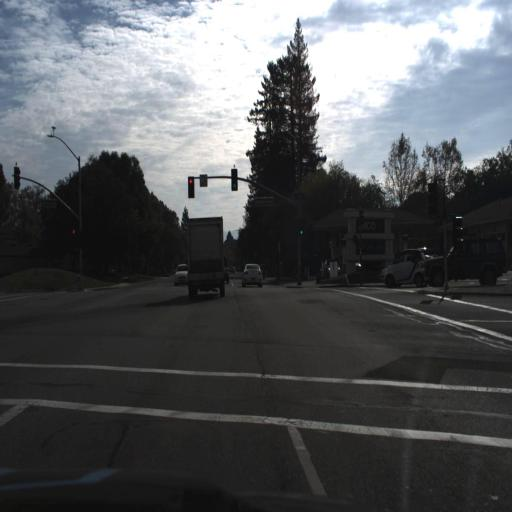car: (423, 235, 508, 287), (380, 246, 422, 288), (240, 257, 266, 288), (172, 260, 189, 289)
trafficLight-Green: (231, 167, 238, 190), (298, 217, 304, 236)
trafficLight-RedLeft: (187, 175, 195, 198), (70, 225, 76, 245)
truck: (185, 214, 225, 299)
